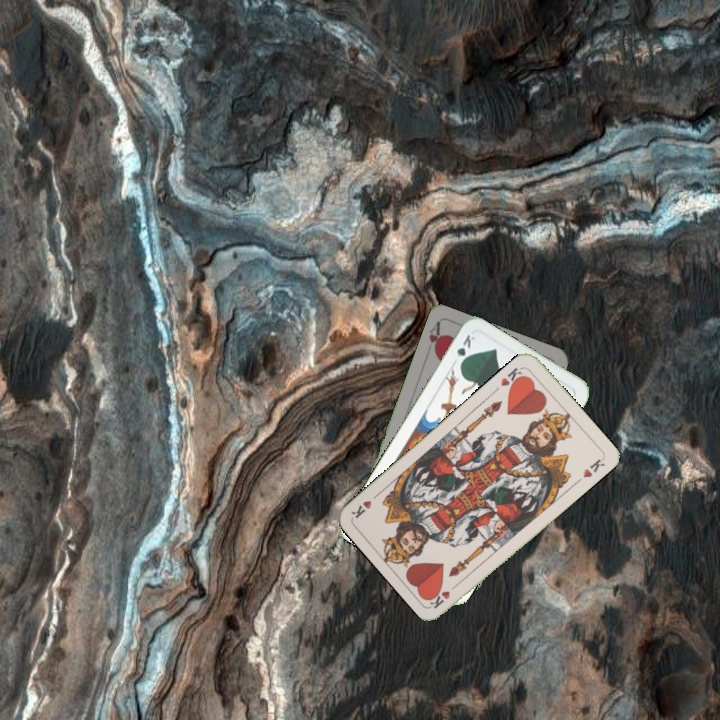GK: (453, 331, 477, 369)
HA: (422, 318, 445, 358)
HK: (426, 578, 462, 611), (497, 363, 527, 392)
